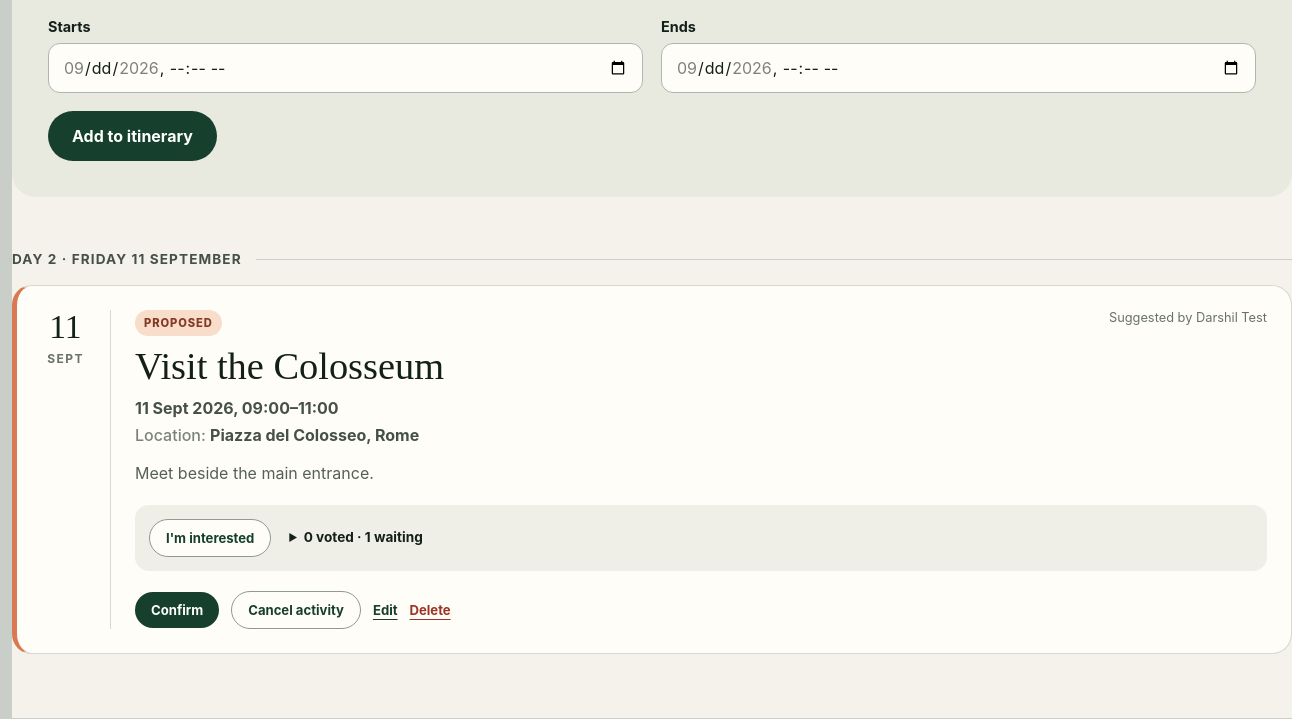
it: itinerary activity flow › lets the owner confirm a proposed activity
(page scrolled)
Step 1. Click the button "Confirm" → (177, 610), box [135,592,219,628]
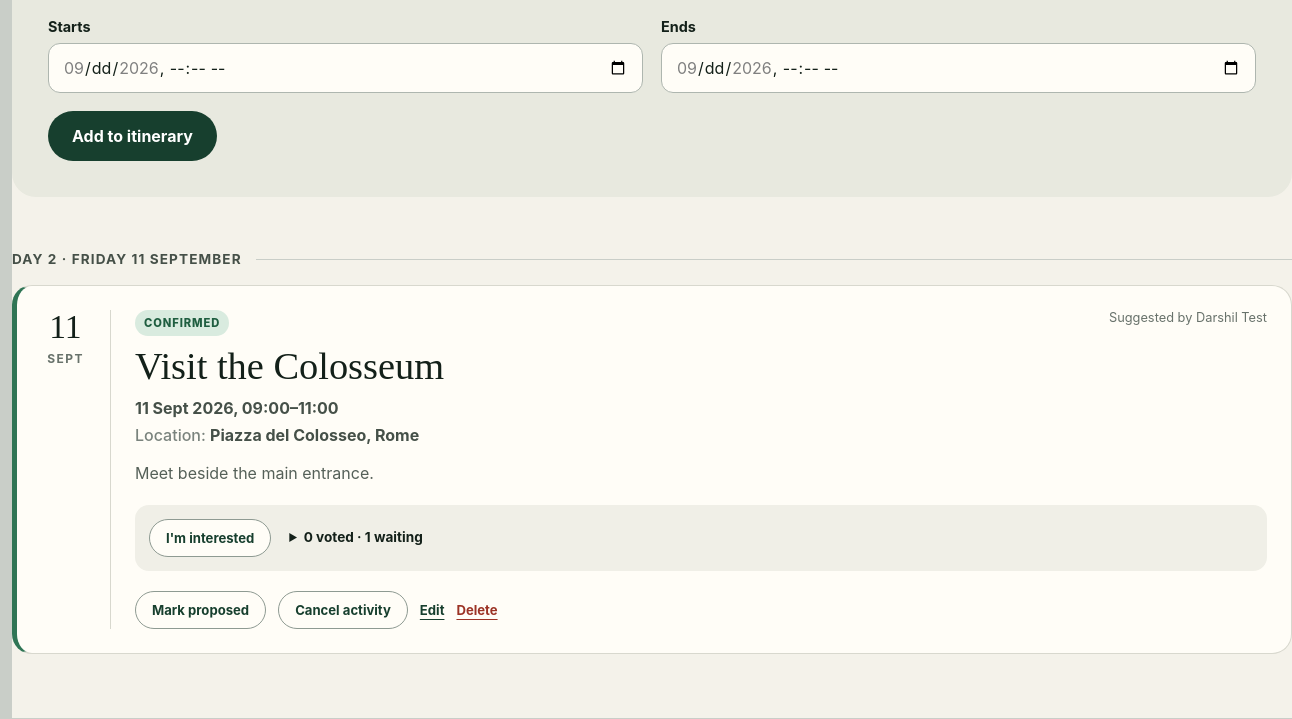
expect the text "Confirmed" is shown: met, box [135,310,229,336]
